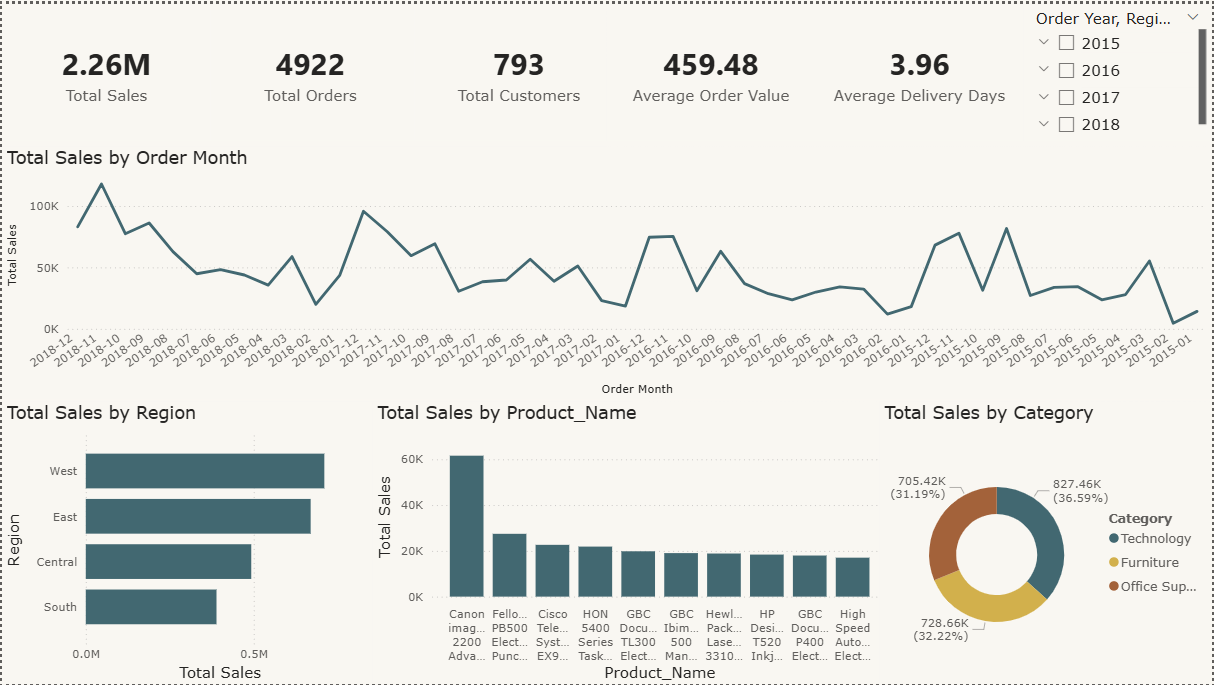

The page's visual inventory and layout, read from the dashboard file:
{"tool":"powerbi","page":{"name":"KPI's","canvas":[1280,720],"ordinal":0},"visuals":[{"type":"card","fields":{"Values":["Sales.Total Customers"]},"box":[436.5,0,220.6,144.4],"z":0},{"type":"card","fields":{"Values":["Sales.Total Orders"]},"box":[215.9,0,220.6,144.4],"z":1000},{"type":"card","fields":{"Values":["Sales.Total Sales"]},"box":[0,0,220.6,144.4],"z":2000},{"type":"card","fields":{"Values":["Sales.Average Delivery Days"]},"box":[860.3,0,220.6,144.4],"z":3000},{"type":"card","fields":{"Values":["Sales.Average Order Value"]},"box":[639.7,0,220.6,144.4],"z":4000},{"type":"lineChart","fields":{"Category":["Sales.Order Month"],"Y":["Sales.Total Sales"]},"box":[0,150.8,1279.4,268.3],"z":5000},{"type":"barChart","fields":{"Category":["Sales.Region"],"Y":["Sales.Total Sales"]},"box":[0,420.3,392.7,300.5],"z":6000},{"type":"columnChart","fields":{"Category":["Sales.Product_Name"],"Y":["Sales.Total Sales"]},"box":[392.7,420.3,549.4,300.5],"z":7000},{"type":"donutChart","fields":{"Category":["Sales.Category"],"Y":["Sales.Total Sales"]},"box":[929.1,420.3,350.3,300.5],"z":8000},{"type":"slicer","fields":{"Values":["Sales.Order Year","Sales.Region","Sales.Category"]},"box":[1081,0,198.4,144.4],"z":9000}]}

Visuals, with their boxes in screenshot pixels (x1, y1, x2, y2), scaled from the page's 1280x720 canvas onto the 1214x685 screenshot:
card - Sales.Total Customers: <region>414, 0, 623, 137</region>
card - Sales.Total Orders: <region>205, 0, 414, 137</region>
card - Sales.Total Sales: <region>0, 0, 209, 137</region>
card - Sales.Average Delivery Days: <region>816, 0, 1025, 137</region>
card - Sales.Average Order Value: <region>607, 0, 816, 137</region>
lineChart - Sales.Order Month x Sales.Total Sales: <region>0, 143, 1213, 399</region>
barChart - Sales.Region x Sales.Total Sales: <region>0, 400, 372, 684</region>
columnChart - Sales.Product_Name x Sales.Total Sales: <region>372, 400, 894, 684</region>
donutChart - Sales.Category x Sales.Total Sales: <region>881, 400, 1213, 684</region>
slicer - Sales.Order Year x Sales.Region: <region>1025, 0, 1213, 137</region>
